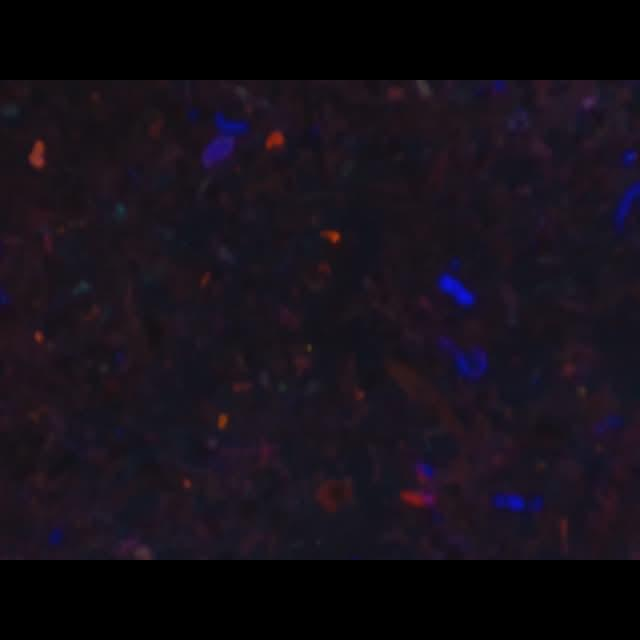Fragment: (28, 140, 46, 169)
